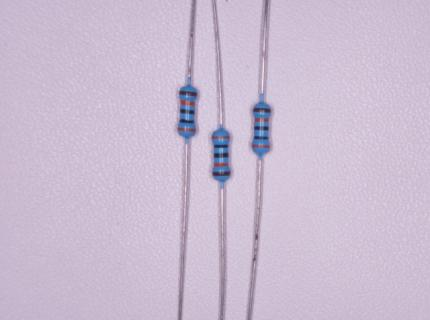Black band: (181, 109, 195, 114), (215, 153, 228, 158), (255, 126, 269, 130), (180, 120, 194, 123), (214, 145, 228, 148), (255, 136, 269, 139)
Brown band: (253, 108, 271, 113), (213, 171, 230, 176), (180, 91, 196, 96)
Orange band: (178, 128, 195, 132), (181, 101, 194, 106), (214, 163, 228, 167), (255, 118, 269, 122), (213, 136, 230, 139), (253, 145, 270, 148)
